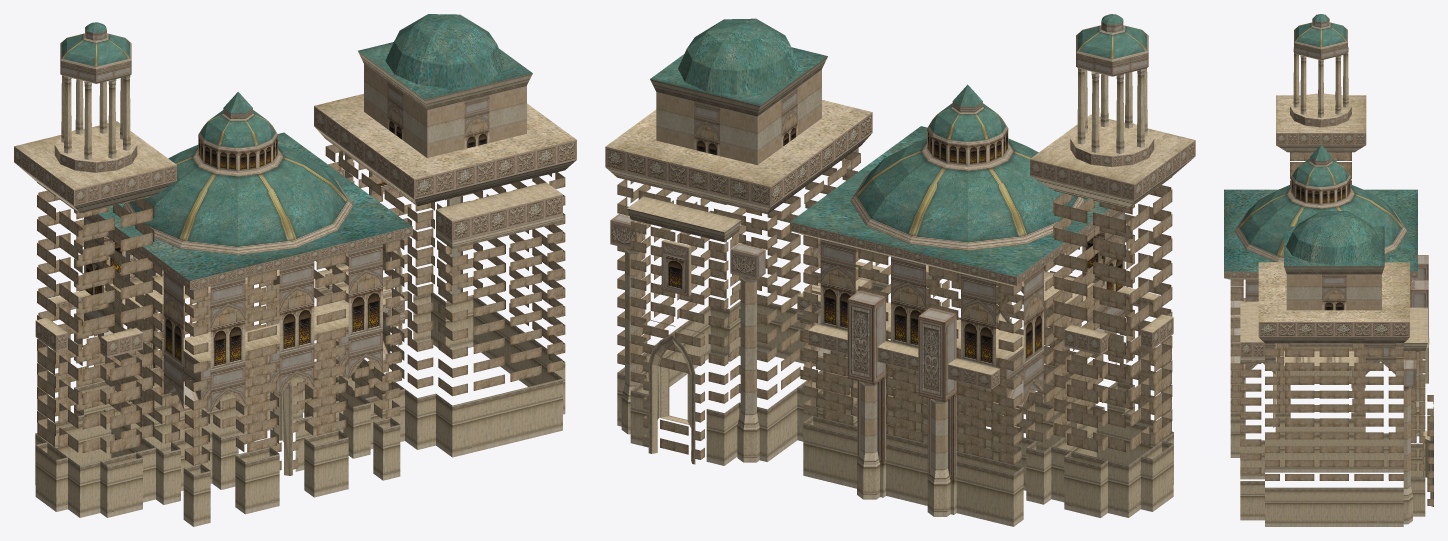
Rendered from thm_nboo_block_bldg_32x16_s02_r0_mesh_l1.fbx.
The picture shows the model from 3 angles, left to right: view 1: azimuth 30°, elevation 25°; view 2: azimuth 150°, elevation 25°; view 3: azimuth 270°, elevation 25°; orthographic projection. The views are drawn at different scales.
Parts seen in each view (by area): view 1: mesh_node; view 2: mesh_node; view 3: mesh_node.
Boxes of the visible parts, x1,y1,x2,y2 form: mesh_node: [14, 14, 576, 526]; mesh_node: [605, 14, 1195, 526]; mesh_node: [1224, 14, 1433, 526].
Bounding box in the file's own units: 32.07 × 29.25 × 15.74.
